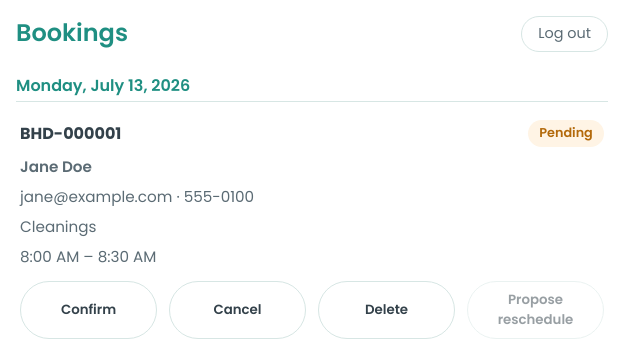
it: OwnerDashboard › confirming a booking updates its status
Expected: the text "BHD-000001" is shown, [20, 121, 121, 146]
Click the button "Confirm". click: (88, 310)
box: [20, 281, 157, 339]
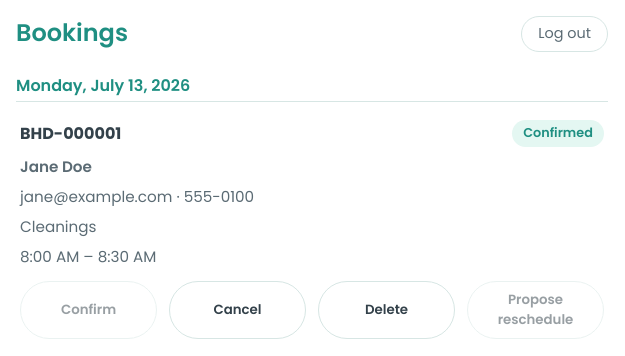
Now the text "Confirmed" is shown, box [512, 120, 604, 147]
